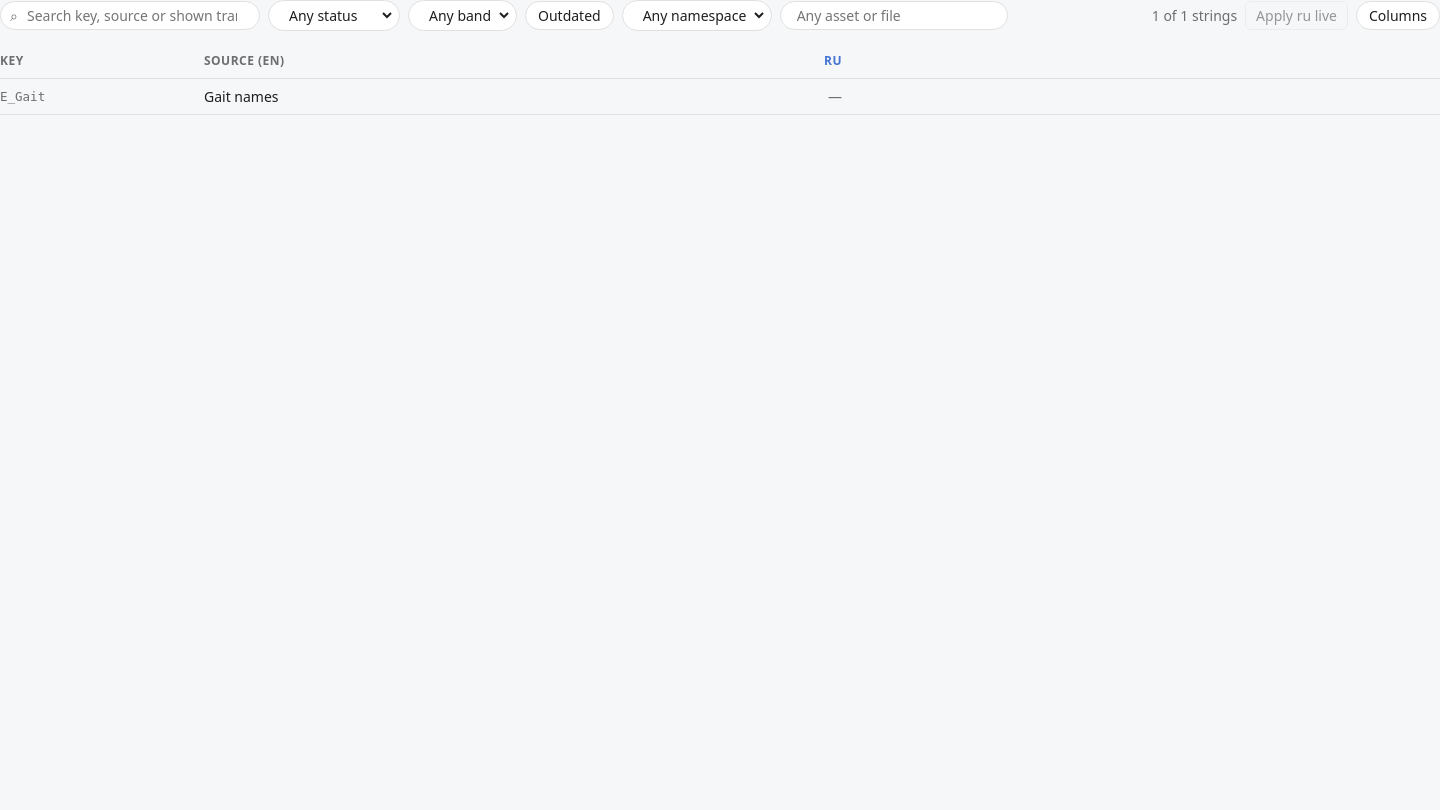
GridView › key details popover › opens with namespace, key, "Asset", the package path and the member for an asset origin
The image size is (1440, 810).
Click the button "E_Gait" at (100, 96), box [0,89,200,104]
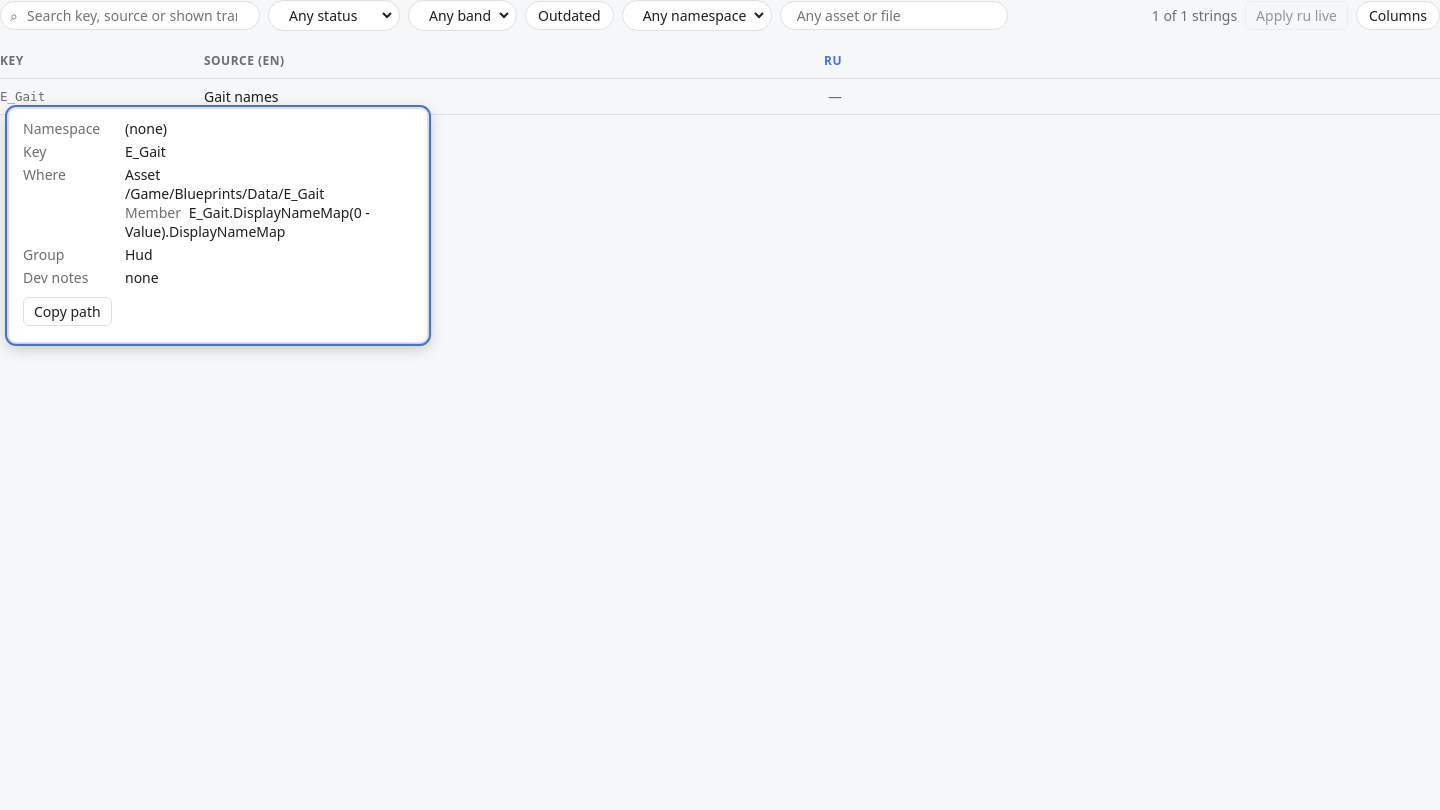
Check: the text "(none)" is shown, box [125,119,167,138]
Check: the text "E_Gait" is shown, box [125,142,166,161]
Check: the text "Asset" is shown, box [125,165,160,184]
